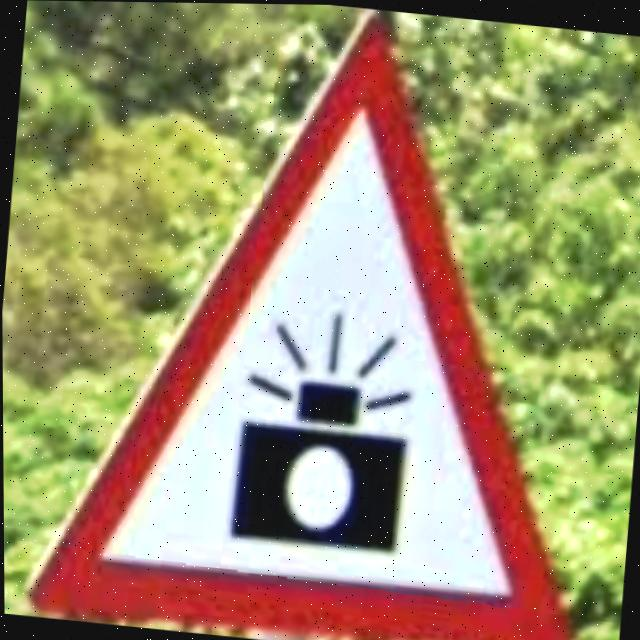speedcamera: (26, 8, 560, 640)
